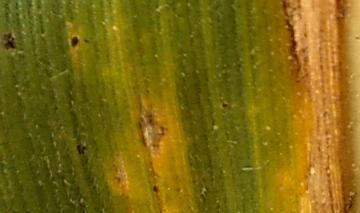tarspot: (1, 30, 17, 51), (74, 142, 87, 156), (69, 35, 80, 48), (151, 185, 160, 194), (222, 102, 228, 109), (83, 38, 89, 44)
